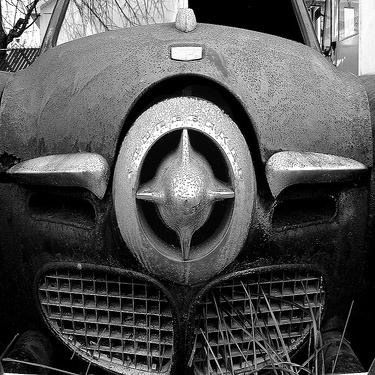car: (5, 6, 369, 372)
